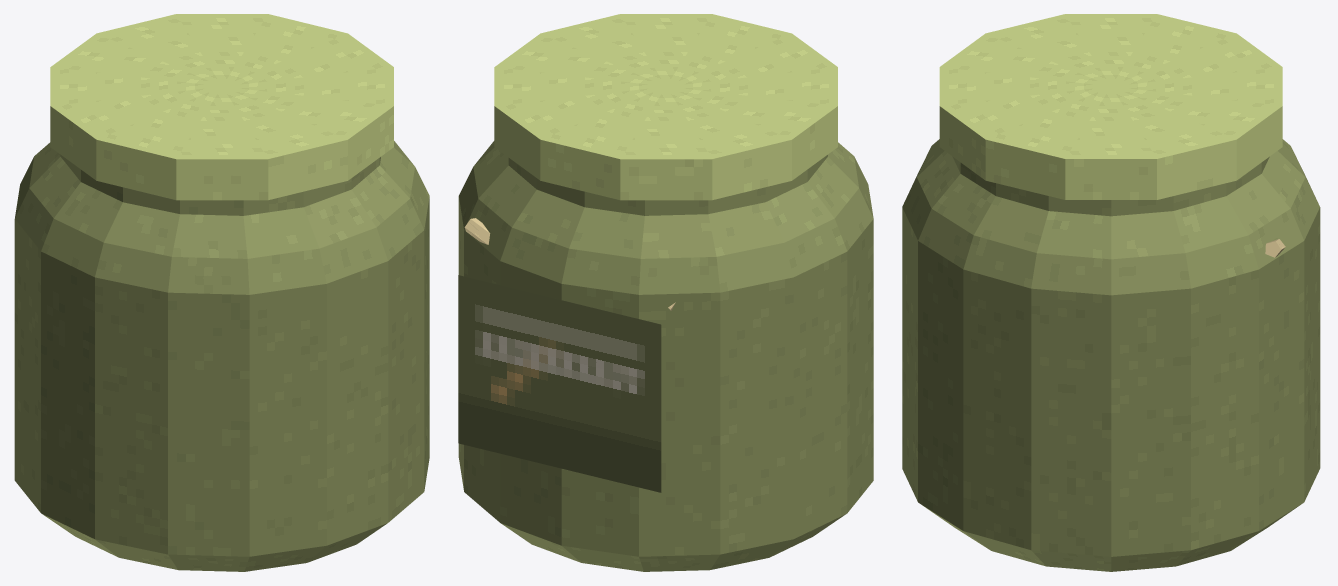
The model's file is sauerkraut.glb.
3 renders of one model, left to right at view 1: azimuth 30°, elevation 25°; view 2: azimuth 150°, elevation 25°; view 3: azimuth 270°, elevation 25°, orthographic.
Visible parts, largest first — view 1: block_glass preserving vessel, block_threaded preserving lid; view 2: block_glass preserving vessel, block_threaded preserving lid, block_preserving label; view 3: block_glass preserving vessel, block_threaded preserving lid.
Part boxes in pixels (x1,y1,x2,y2): block_glass preserving vessel: [14, 141, 429, 571]; block_threaded preserving lid: [50, 14, 393, 200]; block_glass preserving vessel: [458, 141, 873, 571]; block_threaded preserving lid: [494, 14, 837, 200]; block_preserving label: [458, 275, 661, 492]; block_glass preserving vessel: [902, 139, 1320, 571]; block_threaded preserving lid: [939, 14, 1282, 199].
Bounding box in the file's own units: 0.1101 × 0.1203 × 0.1111.
1 material, 1 textured.
